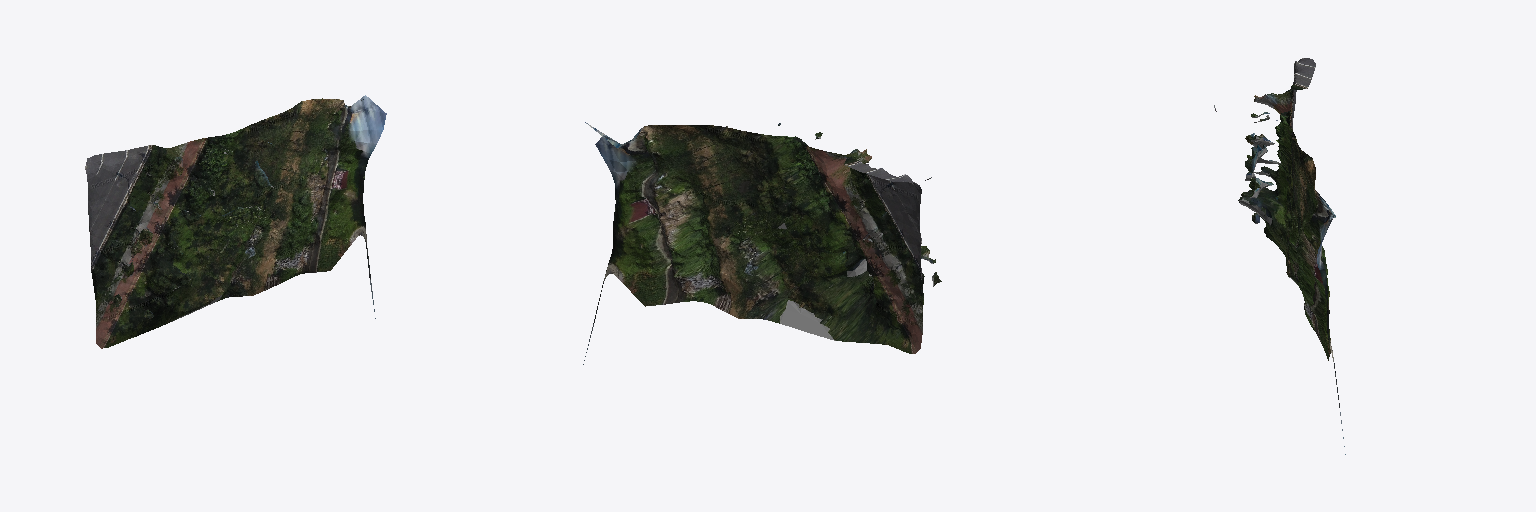
The picture shows the model from 3 angles: view 1: azimuth 30°, elevation 25°; view 2: azimuth 150°, elevation 25°; view 3: azimuth 270°, elevation 25°; orthographic projection.
Bounding box in the file's own units: 60.67 × 45.97 × 21.51.
2 materials, 1 textured.